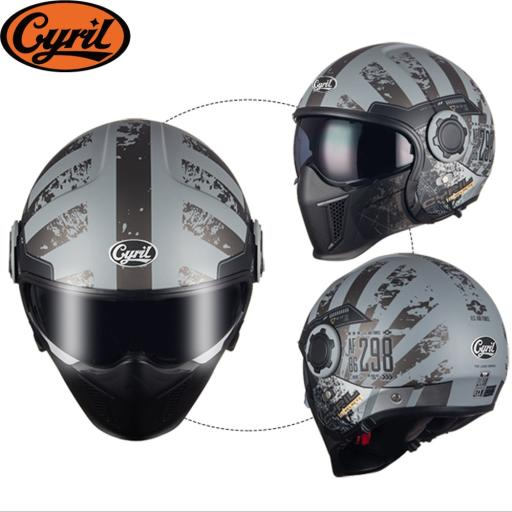helmet-detection: (0, 98, 285, 478), (300, 254, 507, 475), (294, 42, 494, 260)
